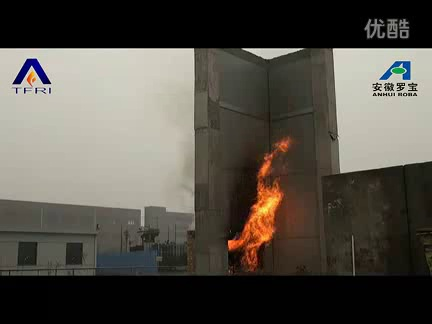fire: (222, 134, 299, 275)
